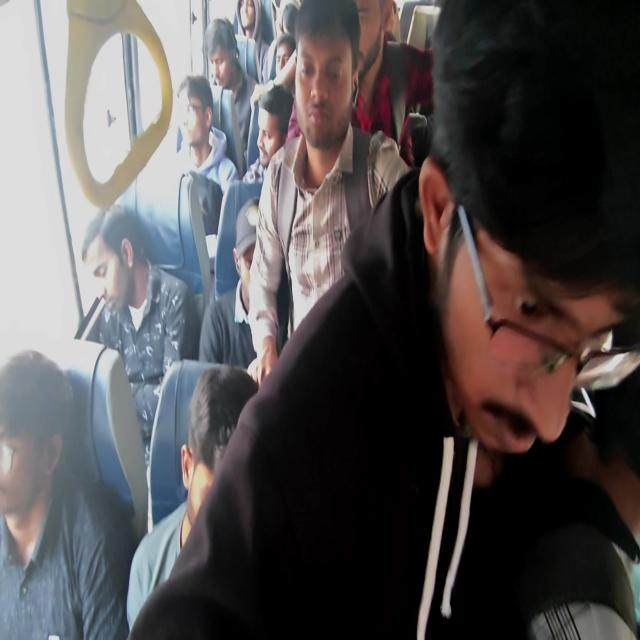person: (1, 346, 136, 637), (440, 210, 594, 458), (345, 2, 433, 162), (292, 0, 360, 150), (188, 364, 258, 478), (80, 204, 142, 319), (214, 179, 268, 308), (1, 349, 74, 443), (244, 81, 293, 183), (398, 1, 434, 46), (178, 74, 213, 117), (245, 94, 262, 174), (236, 36, 262, 86), (233, 0, 266, 38), (274, 33, 296, 76), (383, 0, 400, 42)
